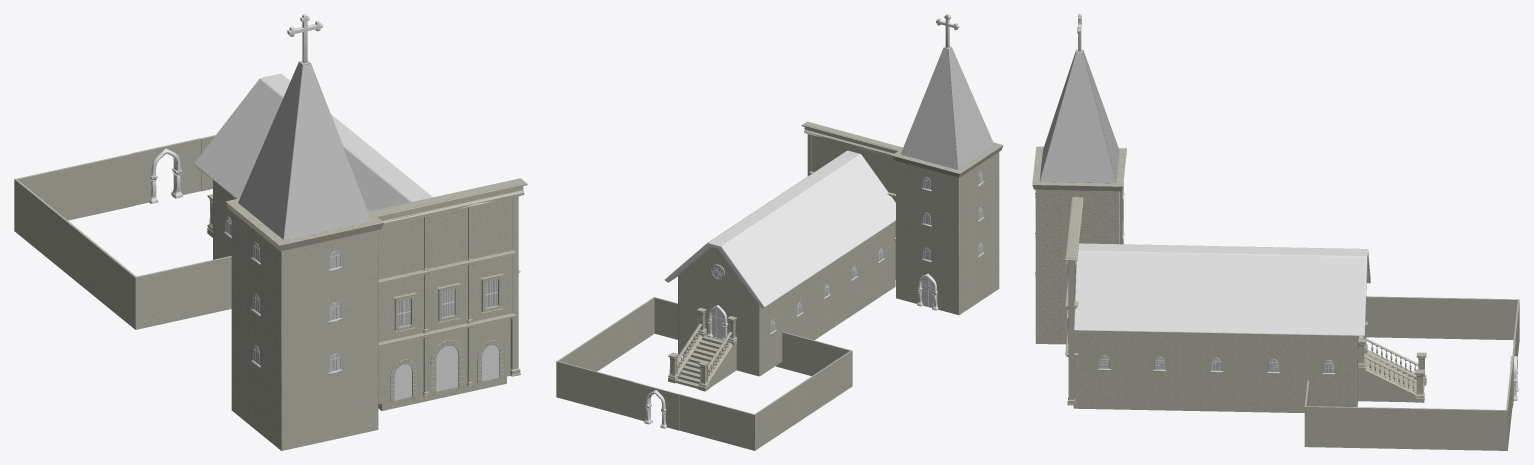
Rendered from SingleChurch.fbx.
The picture shows the model from 3 angles, left to right: view 1: azimuth 30°, elevation 25°; view 2: azimuth 150°, elevation 25°; view 3: azimuth 270°, elevation 25°; orthographic projection. The views are drawn at different scales.
Parts seen in each view (by area): view 1: SingleChurch; view 2: SingleChurch; view 3: SingleChurch.
Boxes of the visible parts, x1,y1,x2,y2 form: SingleChurch: (14,14,527,450); SingleChurch: (556,14,1003,450); SingleChurch: (1032,14,1519,450).
Size of the model in its own units: 3503 by 4126 by 5571.
